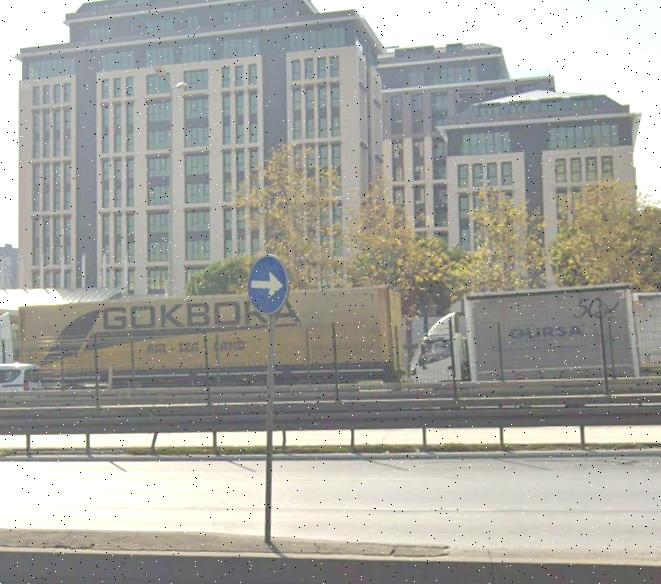turnright: (249, 262, 295, 315)
